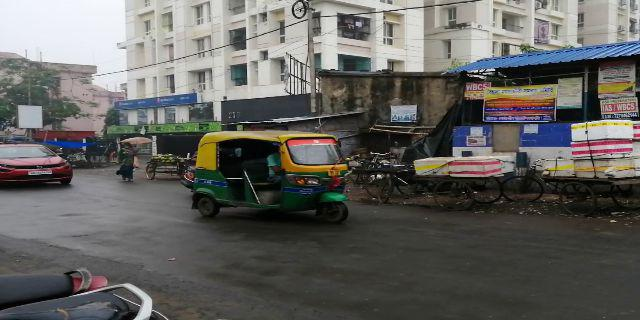Autorickshaw: (190, 135, 352, 225)
Car: (2, 147, 73, 185)
